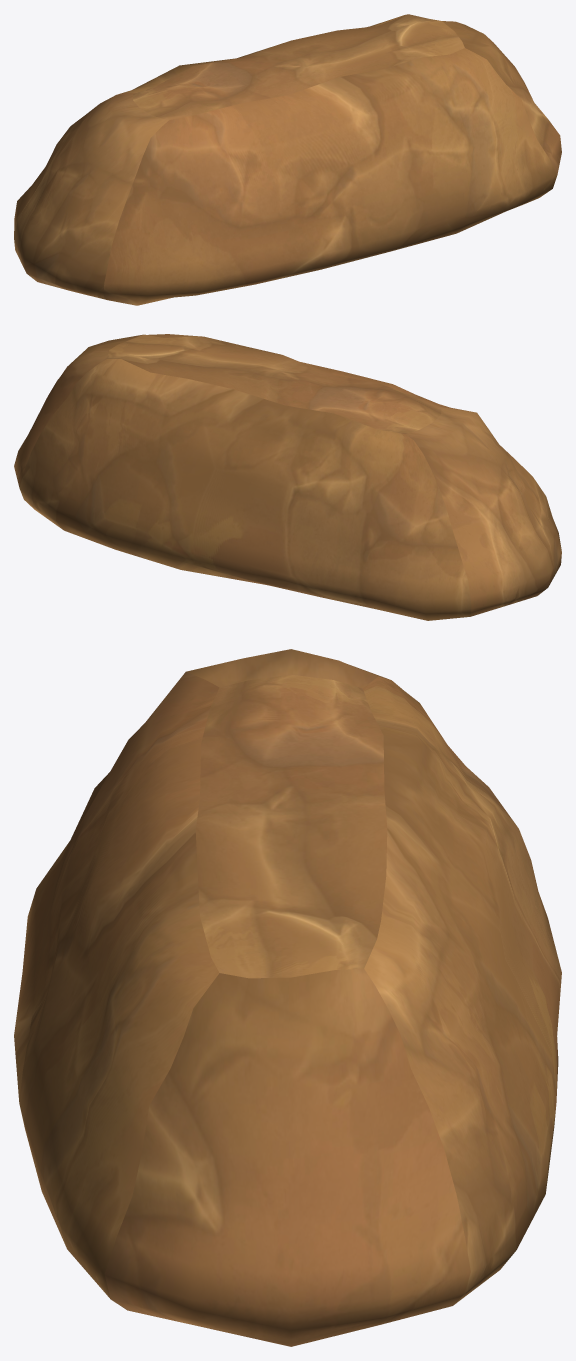
File: Lowest_islands6.fbx
3 views of the same model, one above another, from view 1: azimuth 30°, elevation 25°; view 2: azimuth 150°, elevation 25°; view 3: azimuth 270°, elevation 25° (orthographic). The views are drawn at different scales.
Parts seen in each view (by area): view 1: Cube.005; view 2: Cube.005; view 3: Cube.005.
Part boxes in pixels (bbox=[...]): Cube.005: bbox=[14, 14, 561, 305]; Cube.005: bbox=[14, 334, 561, 620]; Cube.005: bbox=[14, 649, 561, 1346].
Size of the model in its own units: 2461 by 800 by 1127.
Materials: 1 (1 with a texture image).
